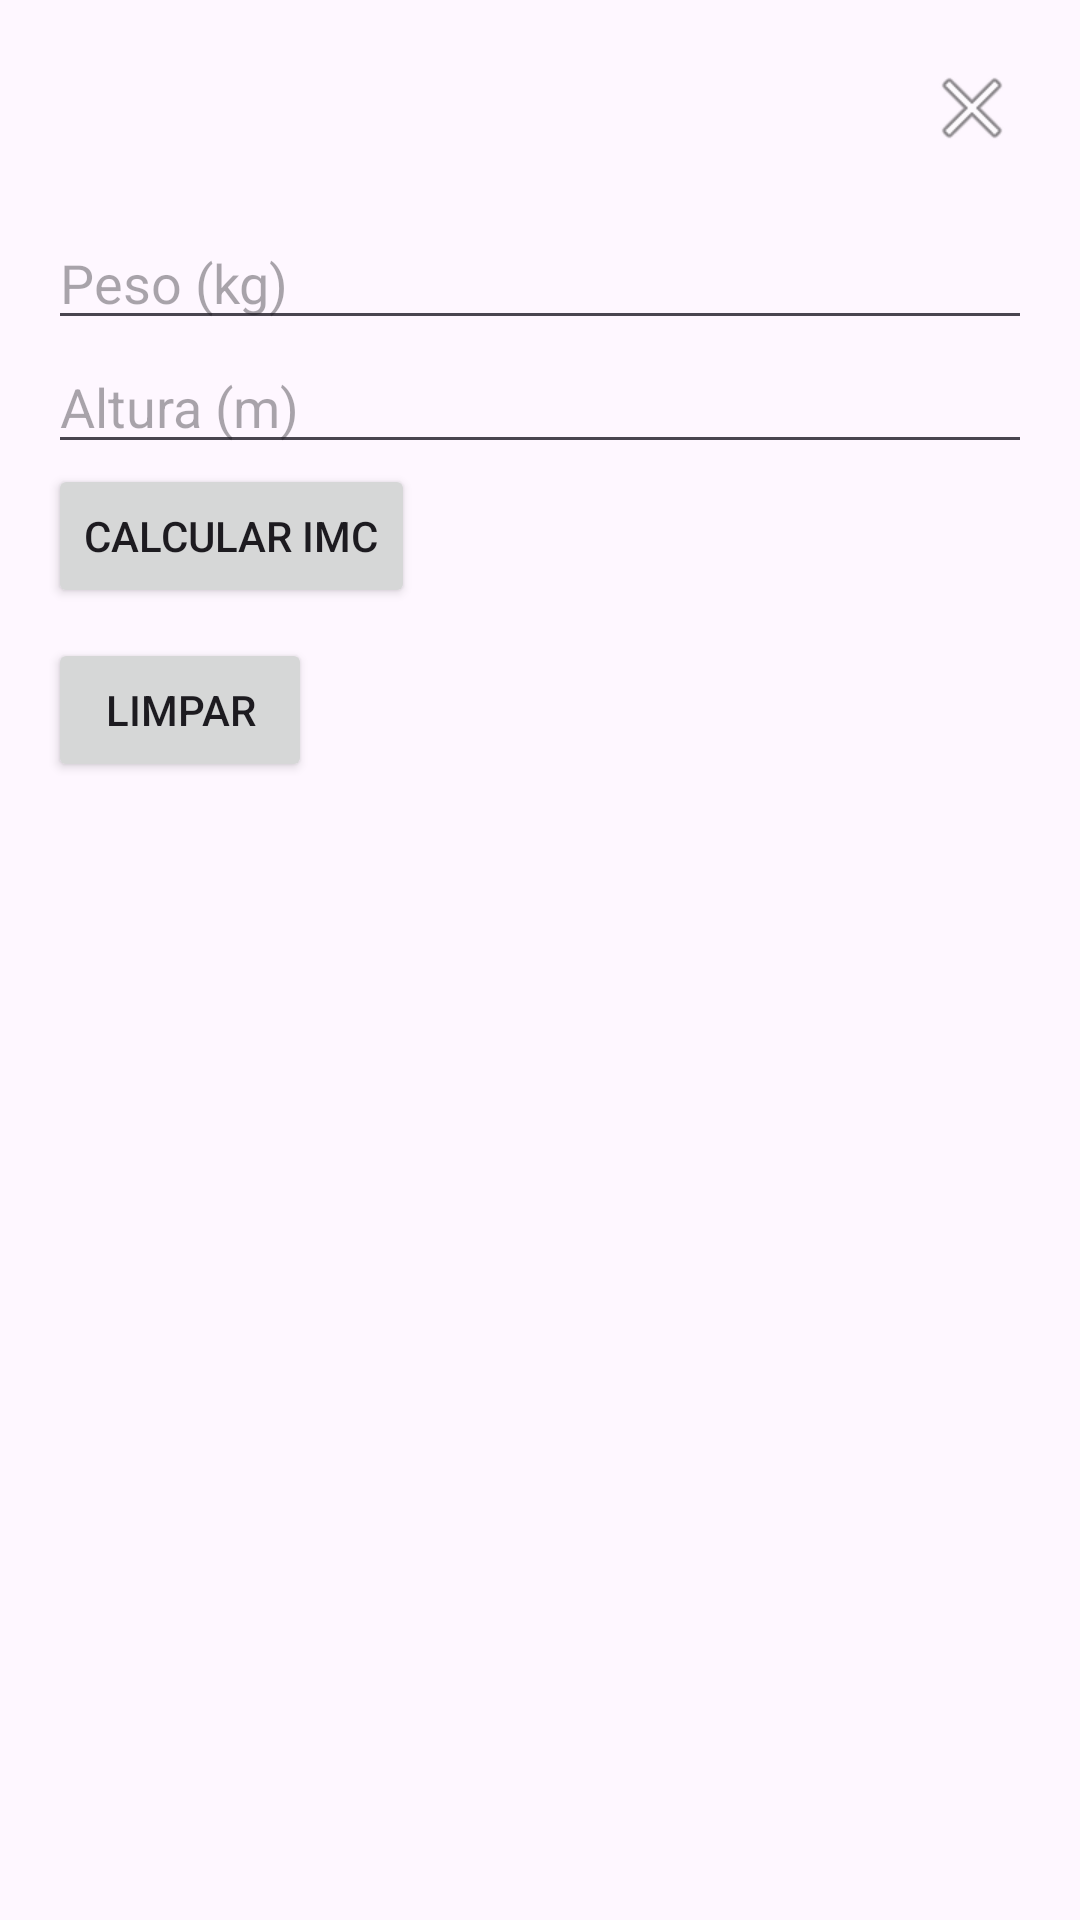

Point at icon controls on the screen. Image size 1080x1920, points as (x=x, y=y).
Fechar: (x=972, y=108)
